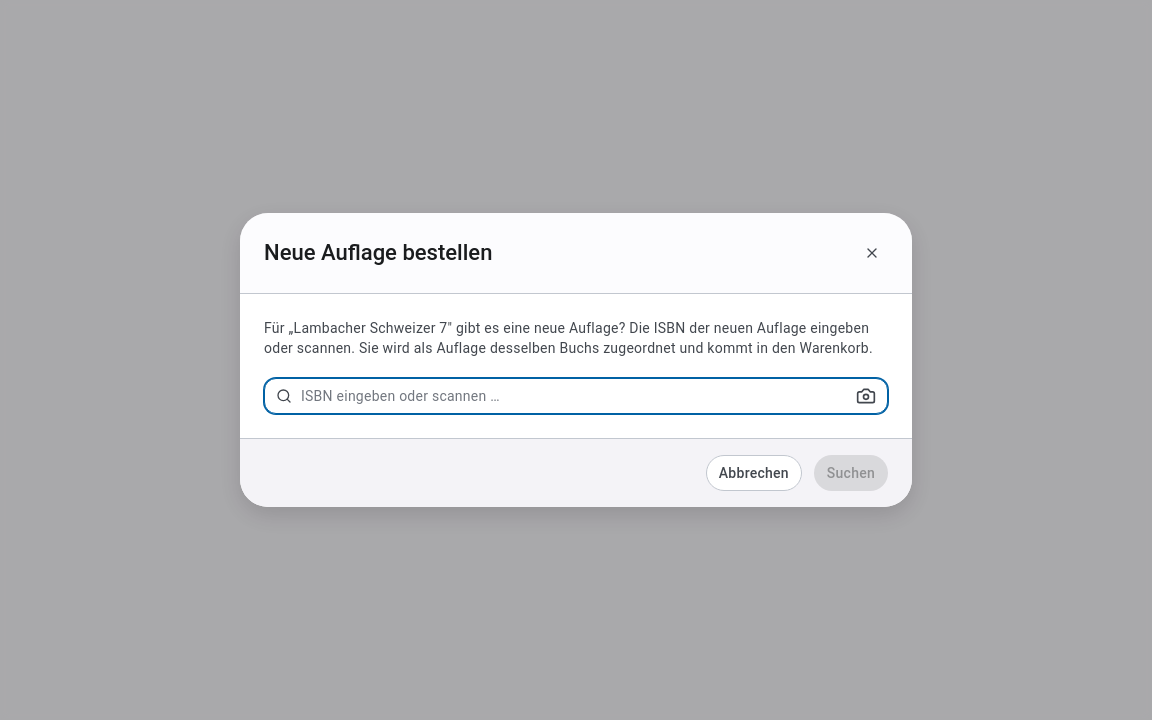
Test: NeueAuflageDialog › sagt nach einem Netzfehler nicht, die ISBN-Abfrage habe den Server nicht erreicht
In the search field named "ISBN der neuen Auflage": (576, 396) [264,378,888,414], type "9783120000026"
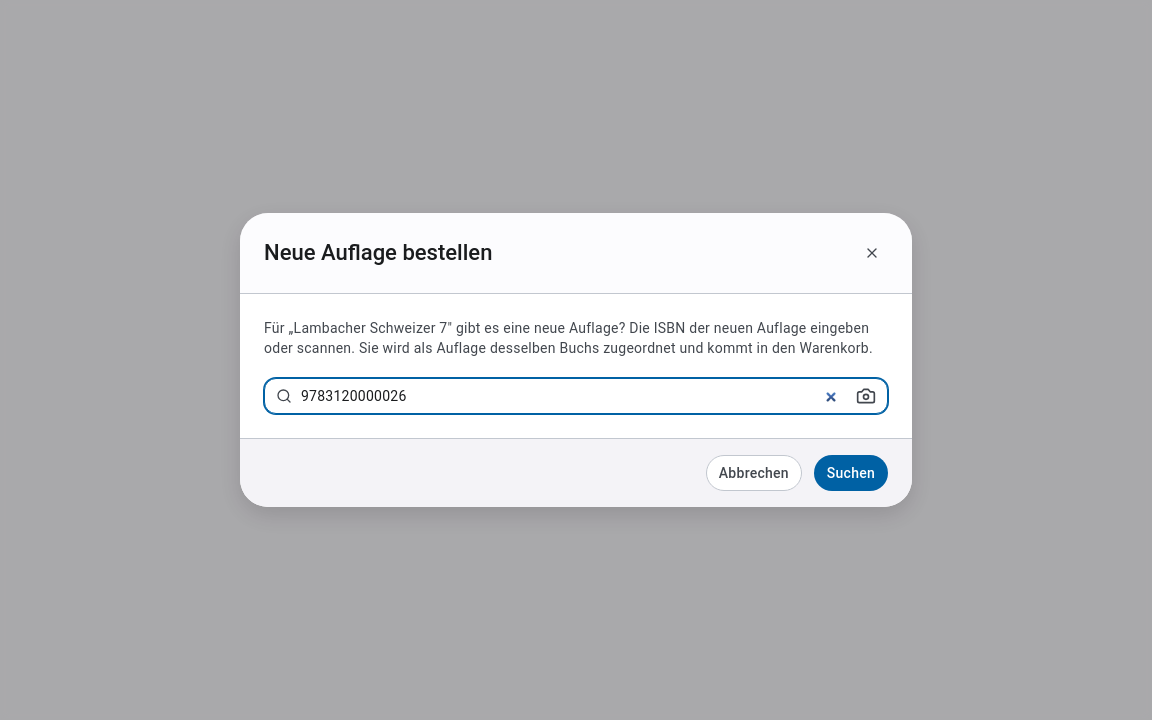
Click the button "Suchen": click(851, 473) [814,455,888,491]
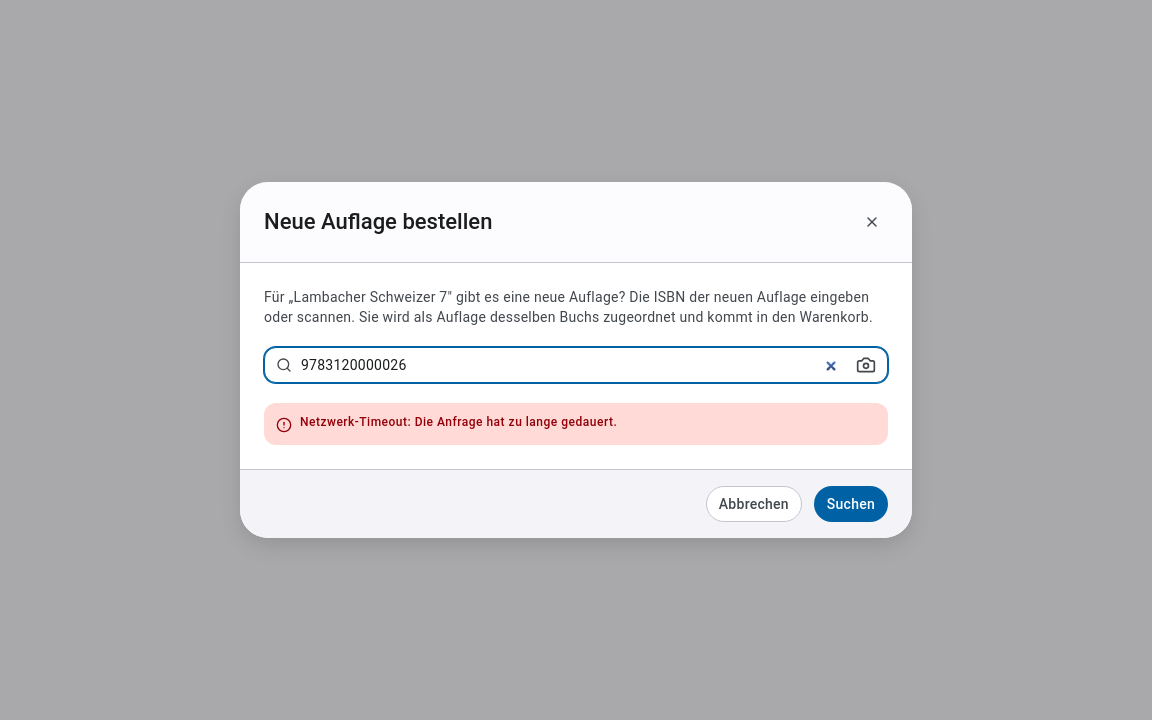
Result: the message reads "Netzwerk-Timeout: Die Anfrage hat zu lange gedauert." at [300,415,617,429]
